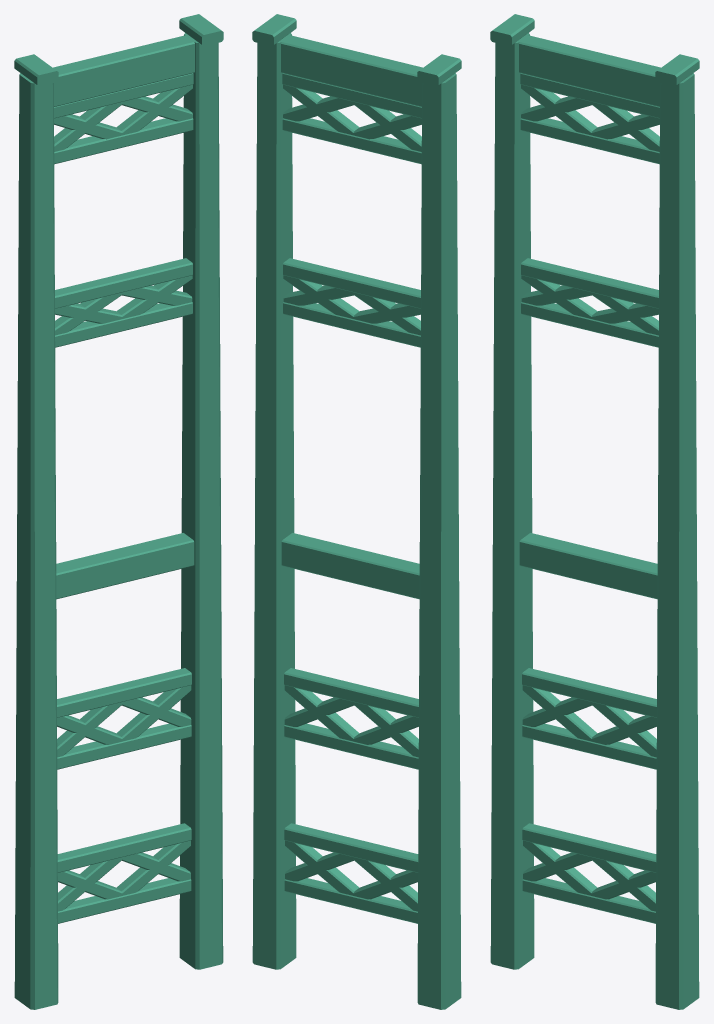
The model's file is la-vincent-thomas-bridge.glb.
The picture shows the model from 3 angles, left to right: view 1: azimuth 30°, elevation 25°; view 2: azimuth 150°, elevation 25°; view 3: azimuth 330°, elevation 25°; orthographic projection.
Visible parts, largest first — view 1: Vincent Thomas Bridge tower; view 2: Vincent Thomas Bridge tower; view 3: Vincent Thomas Bridge tower.
Part boxes in pixels (bbox=[...]): Vincent Thomas Bridge tower: bbox=[14, 14, 223, 1009]; Vincent Thomas Bridge tower: bbox=[252, 14, 461, 1009]; Vincent Thomas Bridge tower: bbox=[490, 14, 699, 1009].
Bounding box in the file's own units: 23.4 × 108 × 4.8.
